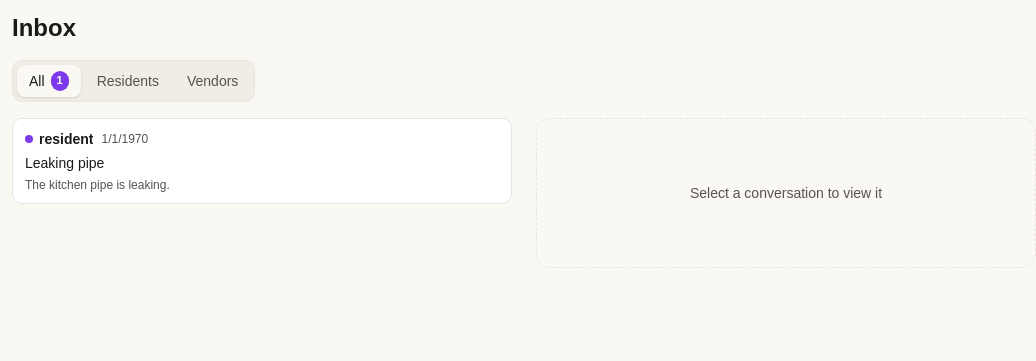
InboxPage › clicking a row opens the conversation via threadId
Click the text "Leaking pipe": [65, 163] box [25,153,104,173]
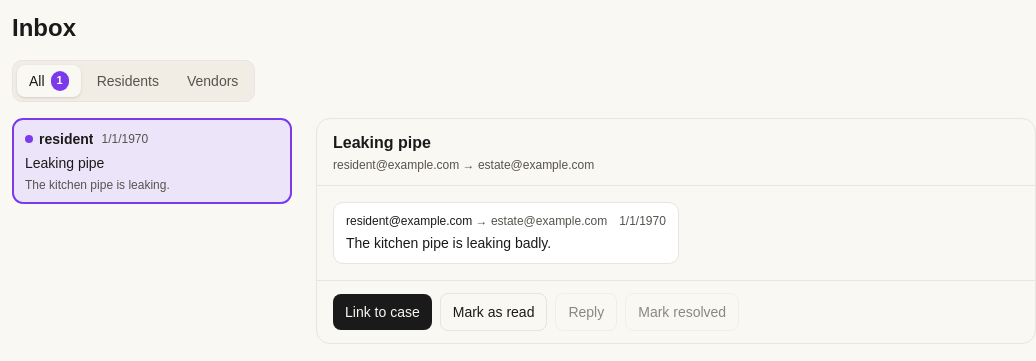
Result: the text "The kitchen pipe is leaking badly." is shown at [346,235,551,251]
